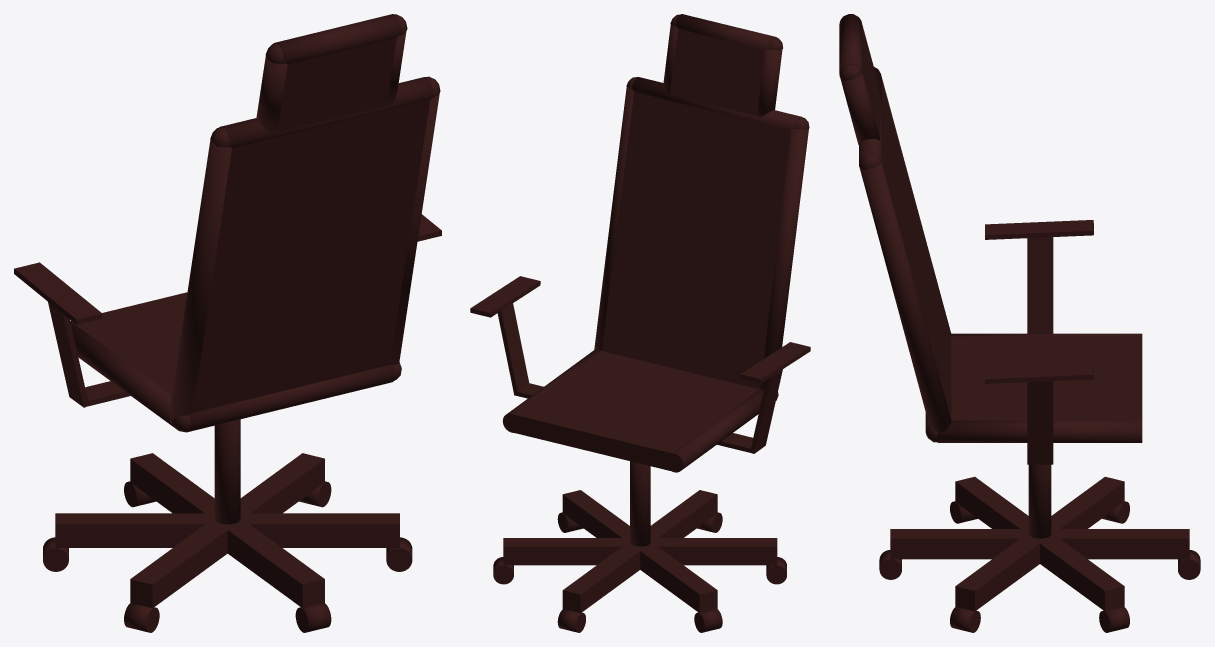
The model's file is Chair.fbx.
The picture shows the model from 3 angles, left to right: view 1: azimuth 30°, elevation 25°; view 2: azimuth 150°, elevation 25°; view 3: azimuth 270°, elevation 25°; orthographic projection. The views are drawn at different scales.
Visible parts, largest first — view 1: Cube.002; view 2: Cube.002; view 3: Cube.002.
Part boxes in pixels (<box>): Cube.002: <box>14,14,441,632</box>; Cube.002: <box>470,14,810,632</box>; Cube.002: <box>839,14,1200,632</box>.
Size of the model in its own units: 235 by 379 by 231.
